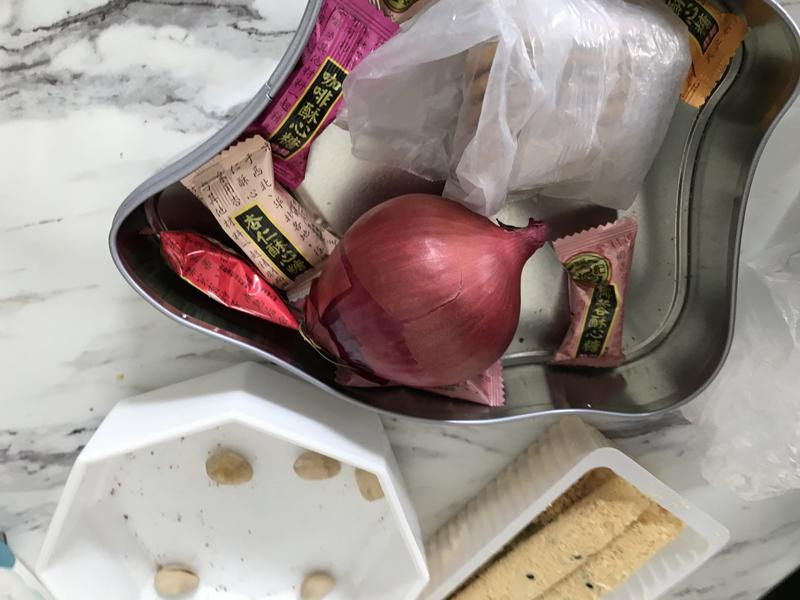purple_onion: (299, 180, 561, 404)
